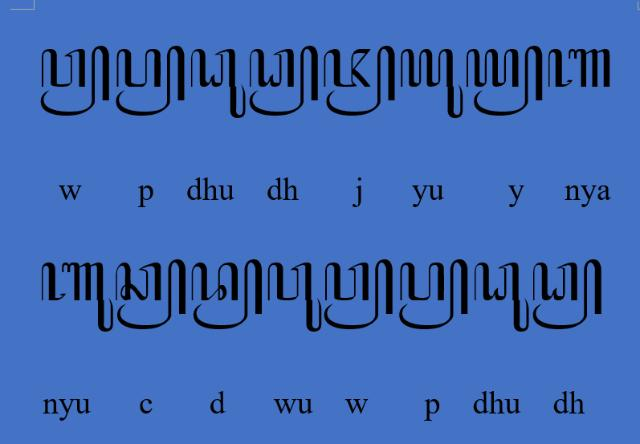-c: (115, 258, 187, 330)
-d: (190, 258, 264, 332)
-dh: (248, 45, 320, 115), (533, 259, 603, 331)
-j: (323, 46, 397, 118)
-p: (114, 45, 186, 117), (398, 259, 470, 331)
-w: (40, 45, 110, 117), (323, 258, 393, 330)
-y: (467, 44, 543, 118)
dhu: (190, 48, 246, 120), (474, 261, 530, 333)
ny1: (548, 46, 612, 90)
nyu1: (41, 260, 114, 334)
wu: (267, 262, 323, 334)
yu: (400, 47, 464, 119)
